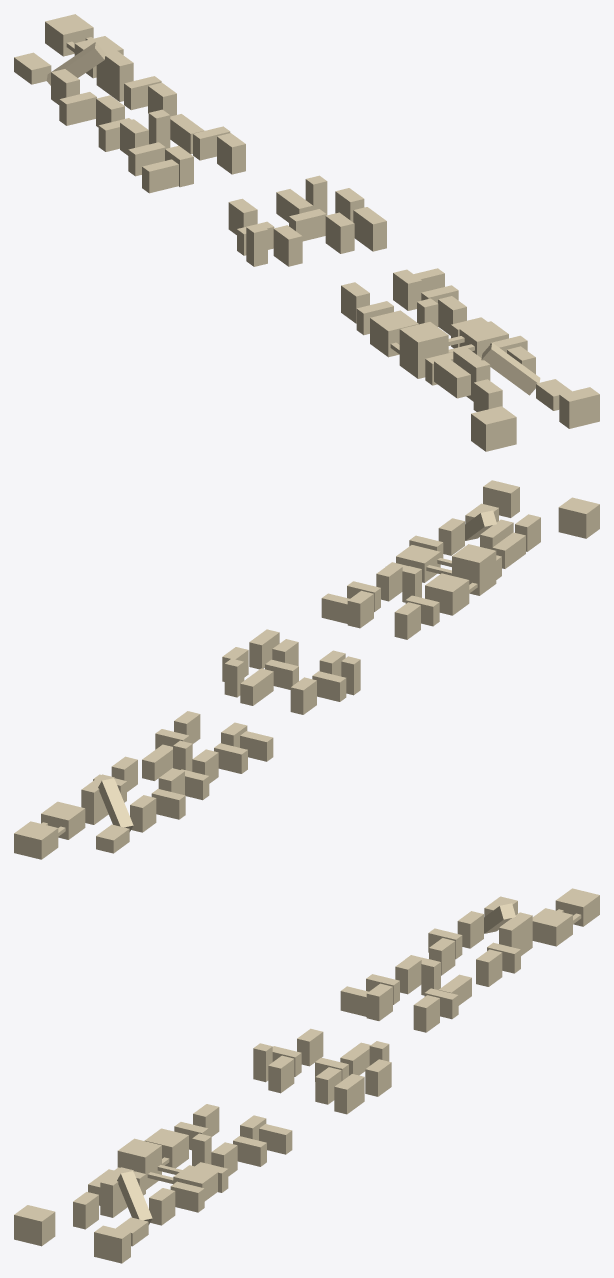
The model's file is billding.obj.
The picture shows the model from 3 angles, top to bottom: view 1: azimuth 30°, elevation 25°; view 2: azimuth 150°, elevation 25°; view 3: azimuth 330°, elevation 25°; orthographic projection. The views are drawn at different scales.
Visible parts, largest first — view 1: billding; view 2: billding; view 3: billding.
Boxes of the visible parts, <box> form: billding: <box>14,14,599,451</box>; billding: <box>14,480,599,859</box>; billding: <box>14,888,599,1263</box>.
Size of the model in its own units: 301 by 103 by 1968.
1 material, 1 textured.
